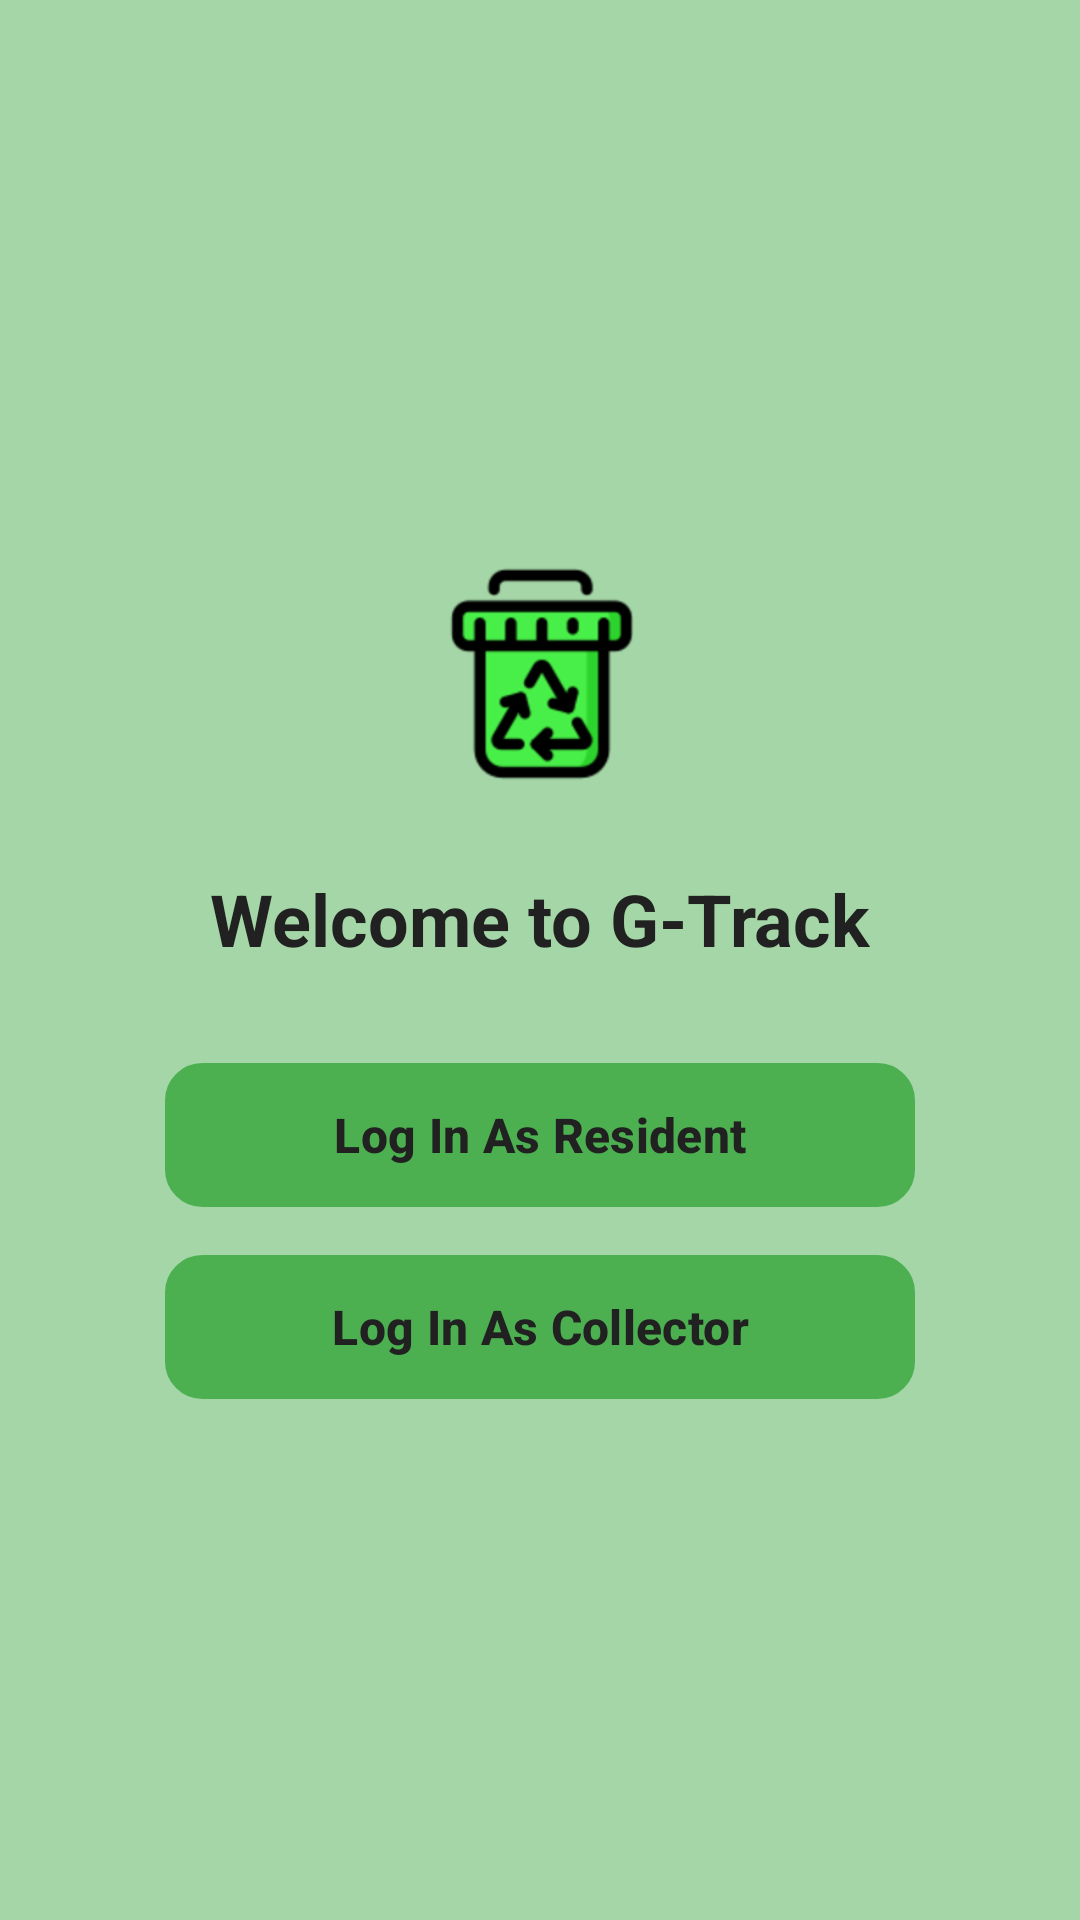

Named icons in this screenshot (1080px x 1920px) and their bounding boxes, BBox(x1, y1, x2, y2):
trash can: BBox(451, 569, 633, 779)
